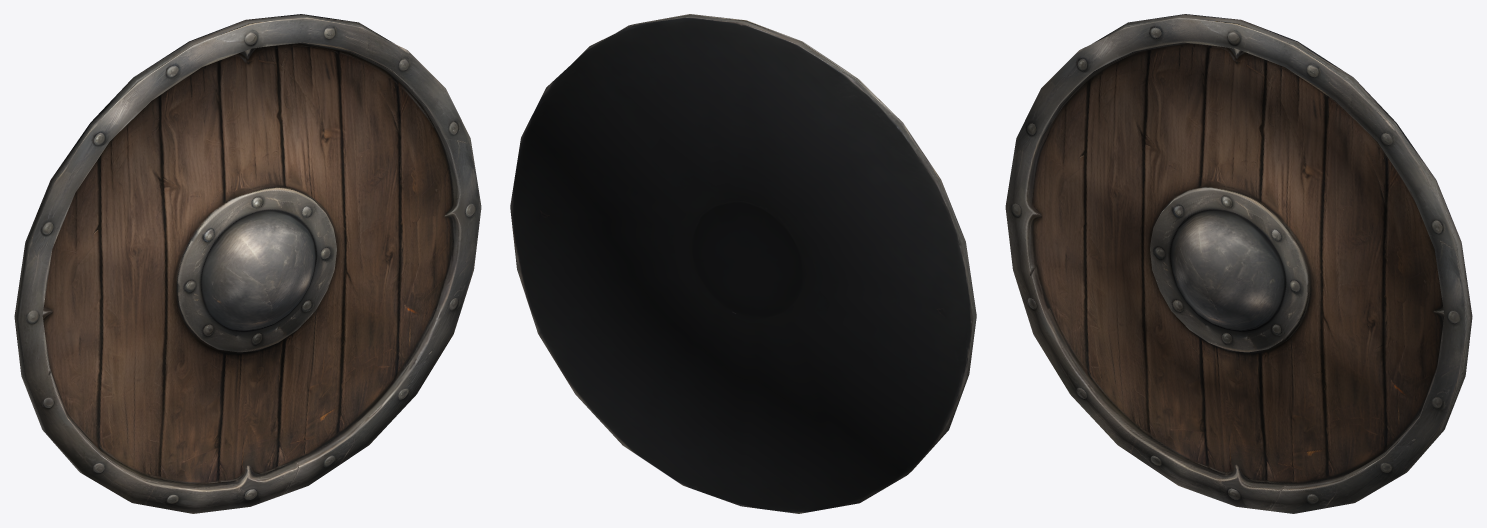
File: MedievalShield.fbx
The picture shows the model from 3 angles, left to right: view 1: azimuth 30°, elevation 25°; view 2: azimuth 150°, elevation 25°; view 3: azimuth 330°, elevation 25°; orthographic projection.
Visible parts, largest first — view 1: MedievalShield; view 2: MedievalShield; view 3: MedievalShield.
Part boxes in pixels (x1,y1,x2,y2): MedievalShield: [14, 14, 481, 513]; MedievalShield: [510, 14, 976, 513]; MedievalShield: [1005, 14, 1472, 513].
Size of the model in its own units: 1.17 by 1.17 by 0.127.
